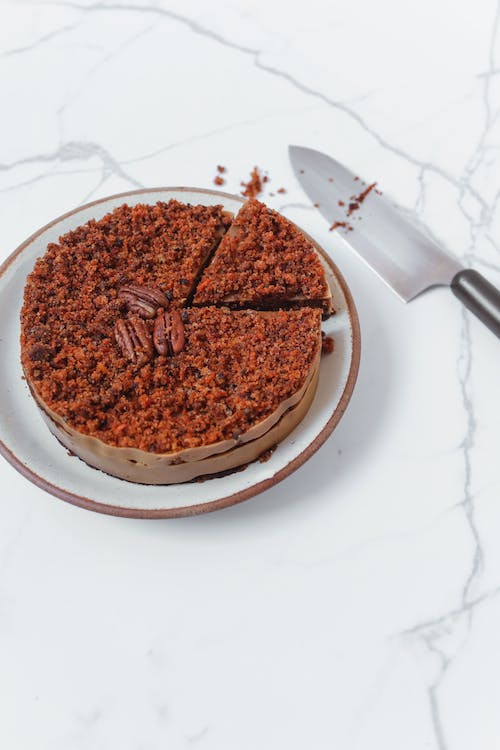knife: (284, 137, 500, 345)
